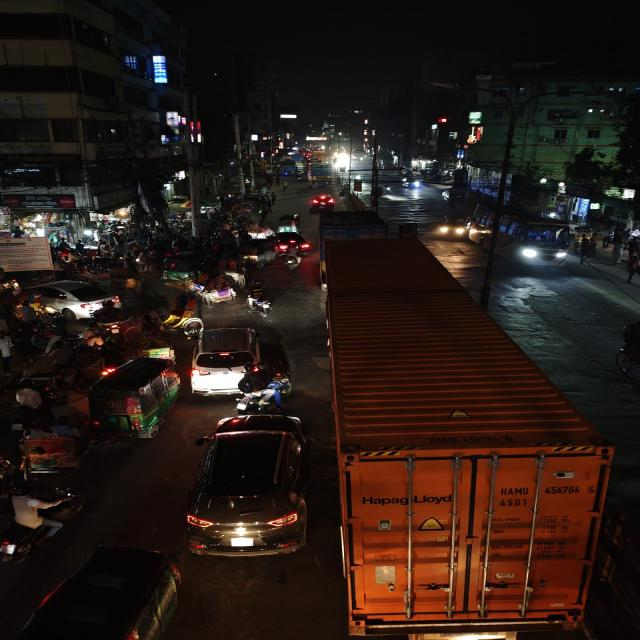bus: (467, 201, 573, 273)
car: (183, 411, 313, 561), (185, 317, 291, 398), (18, 277, 122, 319), (437, 210, 469, 241), (276, 242, 304, 275), (308, 191, 336, 209)
cng: (2, 544, 189, 640), (85, 357, 178, 443), (158, 251, 208, 283), (239, 237, 276, 269), (276, 212, 303, 232)
motorcycle: (0, 487, 83, 565), (234, 366, 281, 414), (244, 281, 275, 316)
pedestrian: (12, 384, 47, 422), (0, 328, 15, 377), (623, 250, 640, 286), (577, 235, 597, 265), (610, 239, 626, 265)
rickshaw: (14, 420, 91, 478), (146, 310, 204, 340), (196, 276, 239, 308), (137, 330, 176, 360)
truck: (330, 230, 624, 630), (0, 235, 57, 274)
